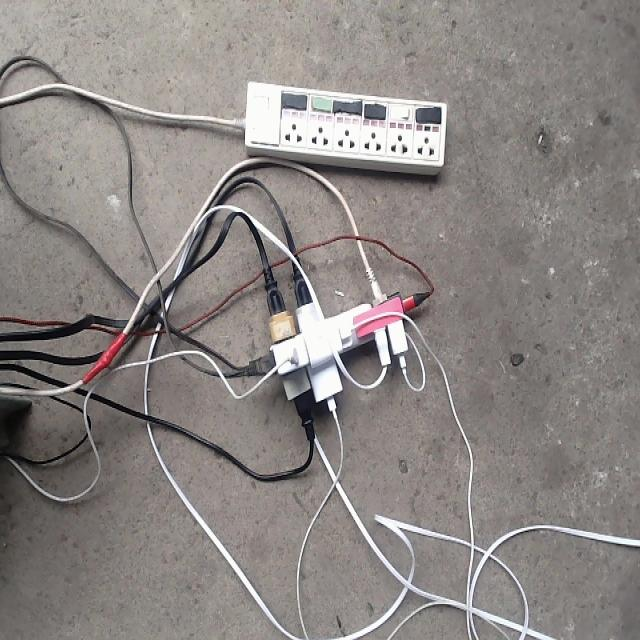-: (230, 231, 430, 445)
